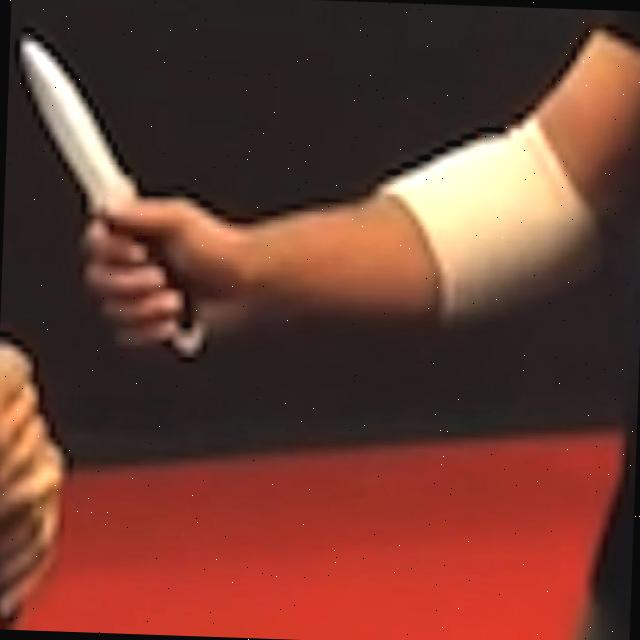suspicion: (3, 0, 640, 377), (11, 27, 148, 198)
